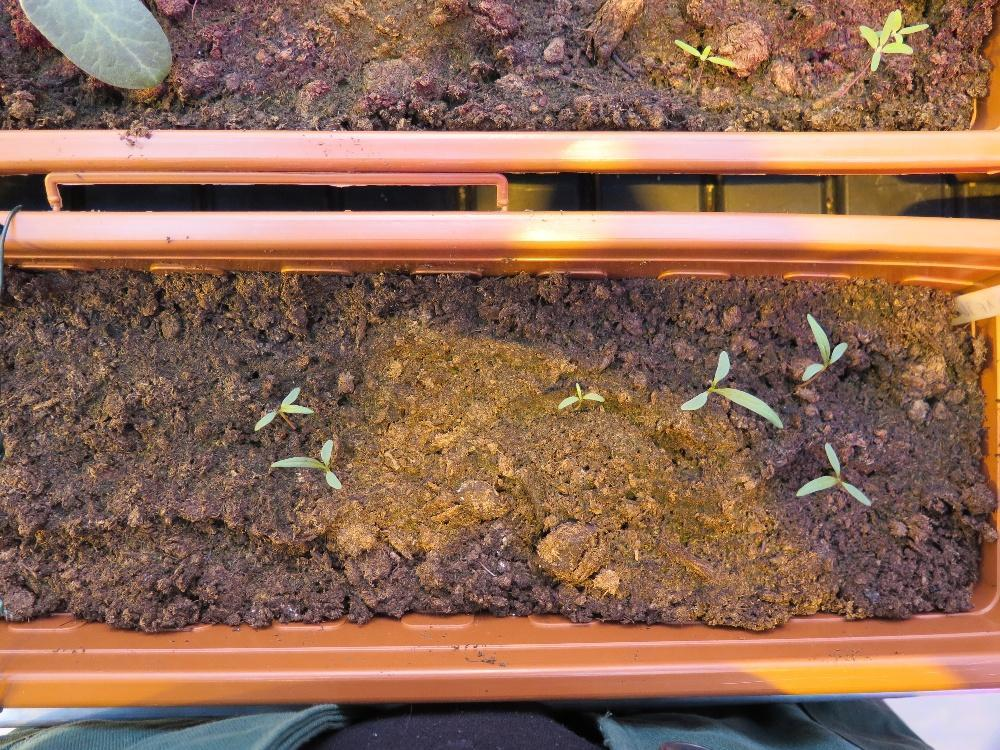weed: (677, 348, 783, 430), (793, 438, 870, 506), (269, 437, 342, 489), (800, 311, 848, 382), (252, 384, 315, 433), (672, 38, 735, 68), (556, 382, 604, 410)
